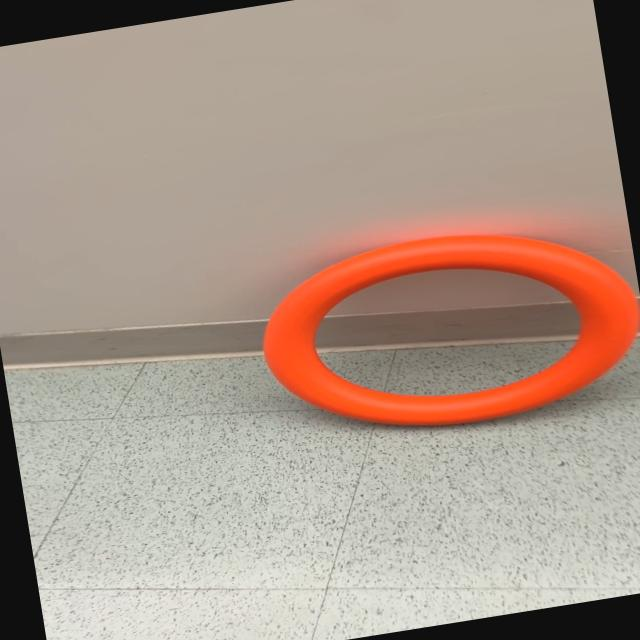note: (247, 206, 640, 455)
